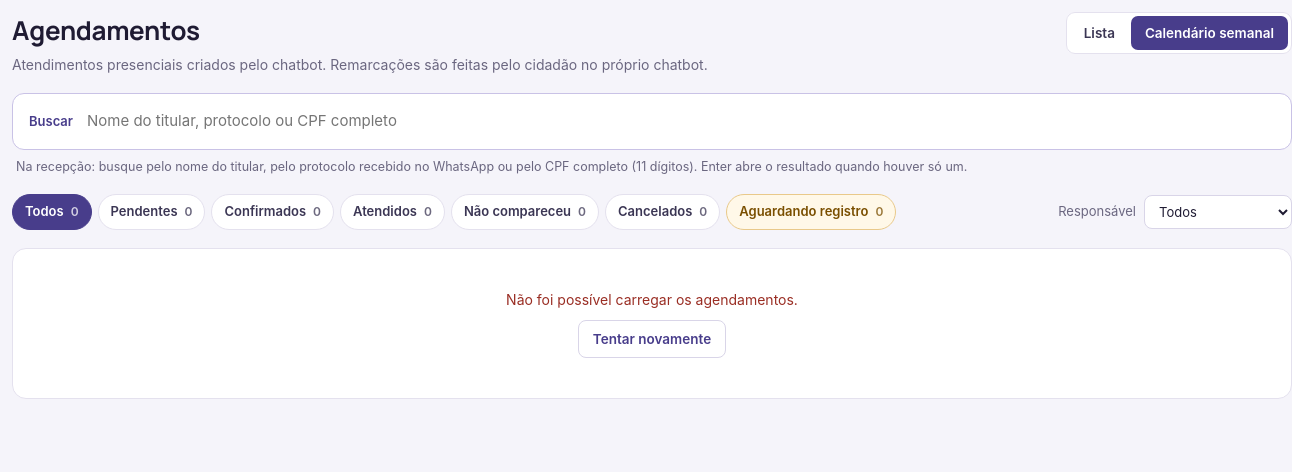
Test case: Appointments.page: calendário › mostra o erro do calendário e carrega ao tentar de novo
The width and height of the screenshot is (1292, 472).
Expected: the message "Não foi possível carregar os agendamentos." is shown, [506, 289, 798, 310]
Click the button "Tentar novamente". click: {"x": 652, "y": 339}
box: [578, 320, 726, 358]
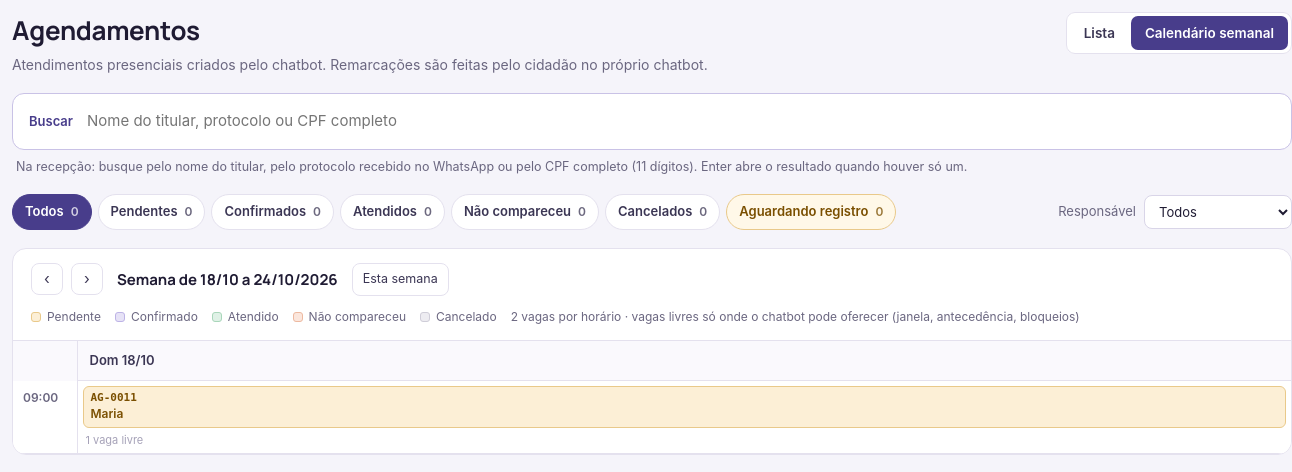
Expected: the table named "Semana de 18/10 a 24/10/2026" is shown, [13, 340, 1291, 454]
